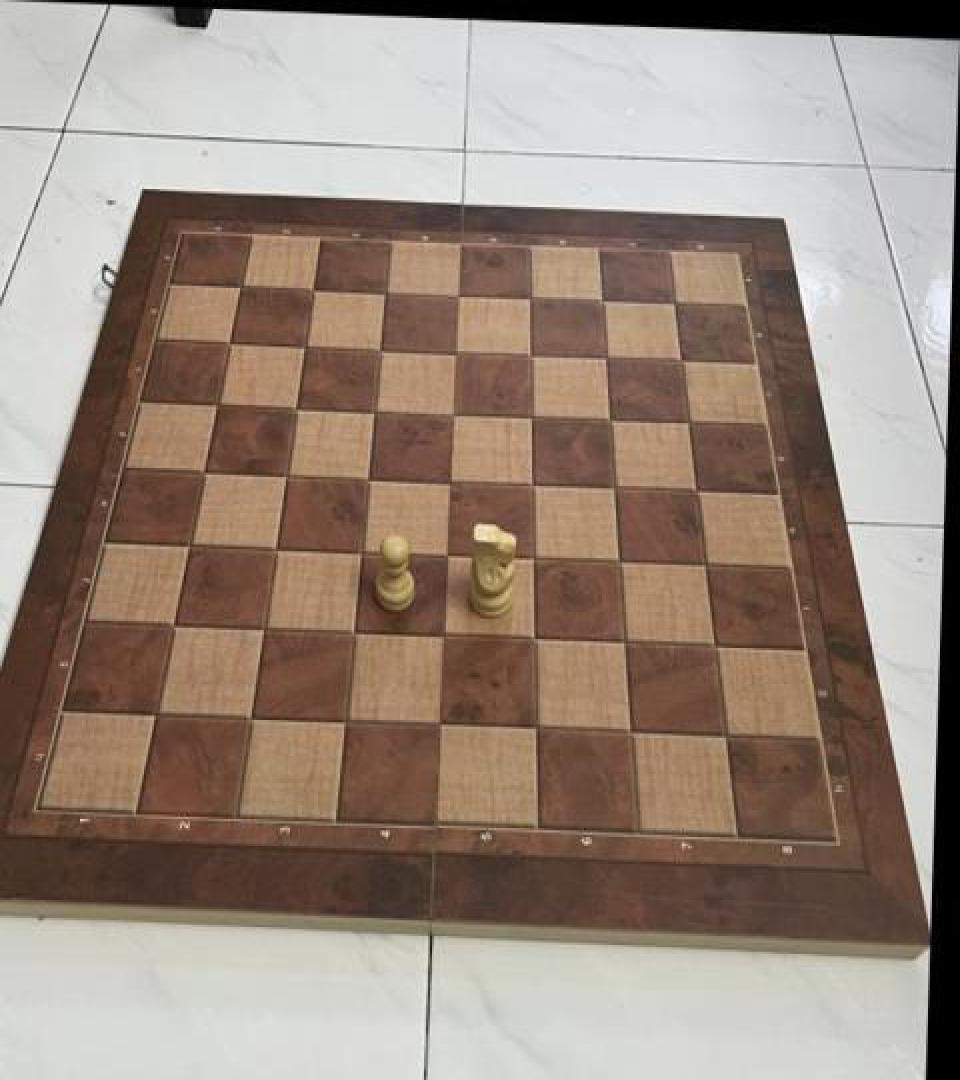xcorner: (295, 272, 329, 311), (185, 454, 219, 493), (656, 285, 690, 323), (583, 282, 617, 320), (511, 280, 545, 318), (439, 278, 473, 316), (367, 274, 401, 312), (223, 270, 257, 308), (662, 342, 696, 380), (587, 340, 621, 378), (511, 338, 545, 376), (436, 334, 470, 372), (361, 332, 395, 370), (286, 330, 320, 368), (211, 326, 245, 364), (669, 405, 703, 443), (590, 402, 624, 440), (512, 400, 546, 438), (433, 396, 467, 434), (355, 394, 389, 432), (277, 390, 311, 428), (199, 388, 233, 426), (677, 472, 711, 510), (595, 469, 629, 507), (512, 467, 546, 505), (431, 464, 465, 502), (349, 462, 383, 500), (267, 458, 301, 496), (685, 547, 719, 585), (599, 544, 633, 582), (513, 540, 547, 578), (427, 538, 461, 576), (342, 534, 376, 572), (256, 531, 290, 569), (171, 528, 205, 566), (694, 628, 728, 666), (604, 624, 638, 662), (514, 621, 548, 659), (424, 619, 458, 657), (334, 616, 368, 654), (244, 612, 278, 650), (155, 609, 189, 647), (704, 718, 738, 756), (609, 714, 643, 752), (514, 711, 548, 749), (420, 708, 454, 746), (325, 704, 359, 742), (231, 700, 265, 738), (137, 696, 171, 734)
